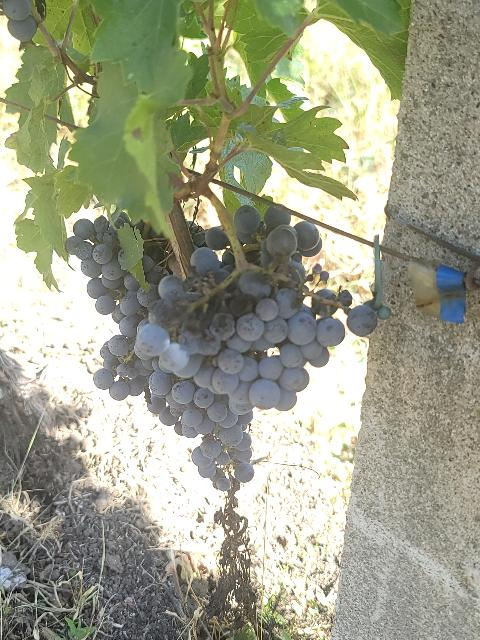grapes: (134, 205, 378, 409), (65, 214, 159, 400), (141, 370, 254, 491)
